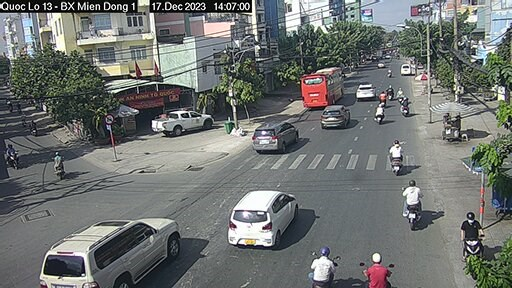bus: (298, 67, 347, 106)
car: (40, 214, 180, 288), (225, 189, 301, 250), (249, 119, 302, 157), (149, 109, 218, 135), (320, 102, 352, 130), (354, 82, 378, 100), (399, 61, 414, 79)
motorbike: (455, 215, 490, 273), (309, 248, 345, 288), (402, 180, 427, 230), (386, 139, 406, 181), (370, 103, 386, 126), (398, 97, 412, 118)
